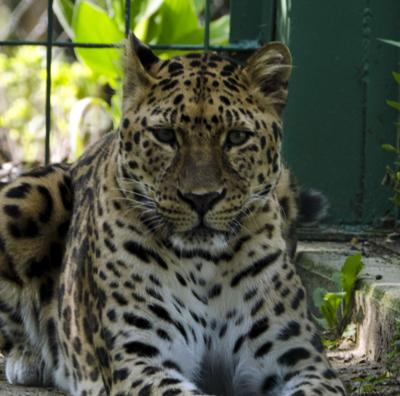amur_leopard: (3, 9, 342, 396)
